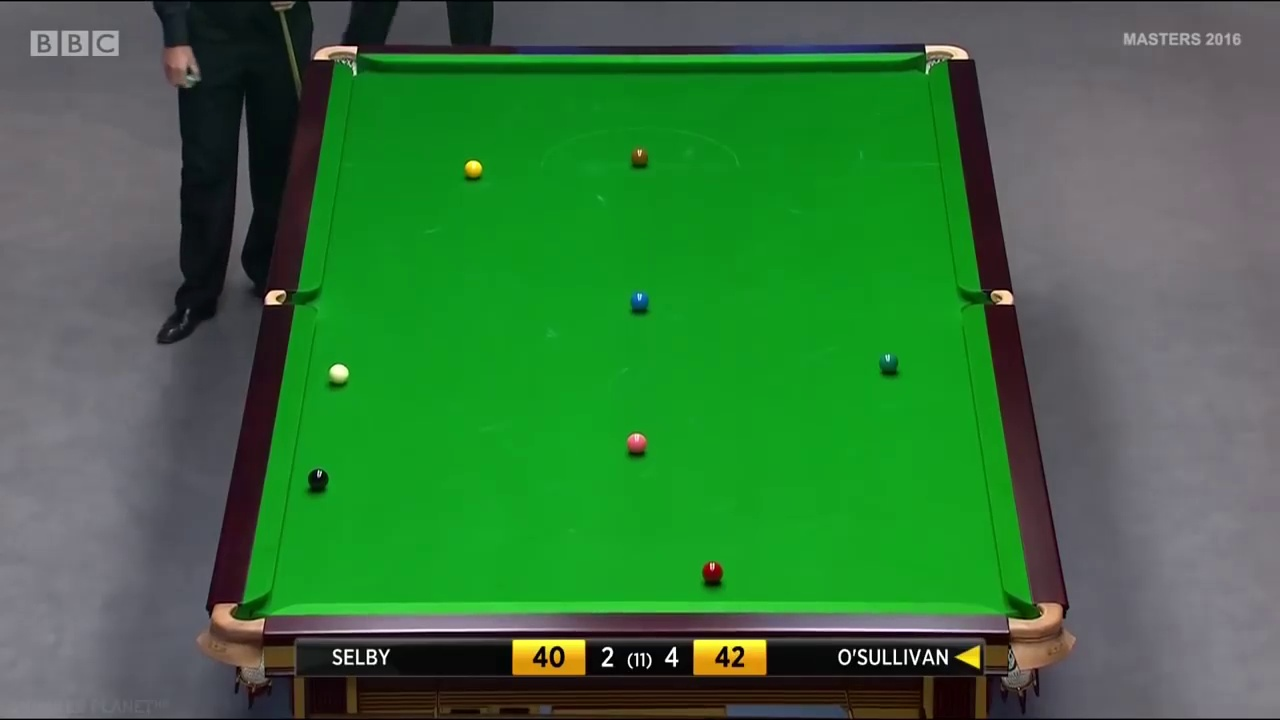ball: (623, 432, 649, 456), (702, 558, 725, 584), (308, 470, 329, 492), (329, 365, 349, 385), (880, 354, 900, 374), (628, 149, 649, 168), (463, 159, 483, 178), (629, 292, 647, 310)
